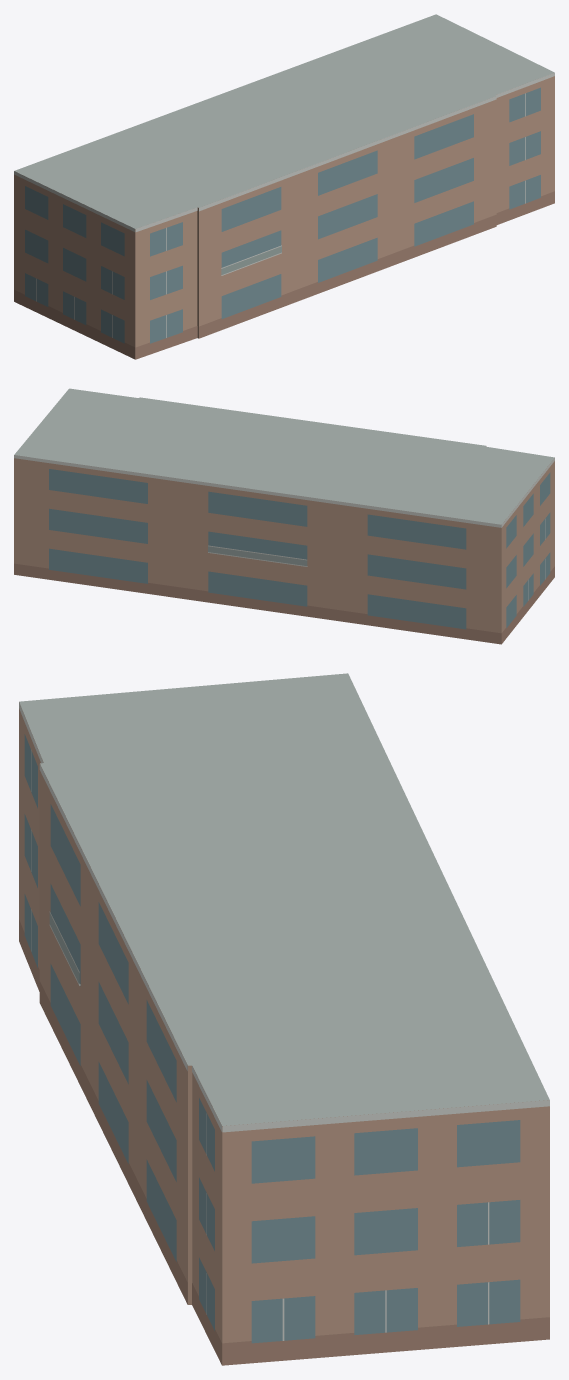
Rendered from survey-upis-32521155.glb.
The picture shows the model from 3 angles, top to bottom: view 1: azimuth 30°, elevation 25°; view 2: azimuth 150°, elevation 25°; view 3: azimuth 270°, elevation 25°; orthographic projection. The views are drawn at different scales.
Visible parts, largest first — view 1: survey-upis-32521155.tmp; view 2: survey-upis-32521155.tmp; view 3: survey-upis-32521155.tmp.
Part boxes in pixels (x1,y1,x2,y2): survey-upis-32521155.tmp: [14, 14, 554, 359]; survey-upis-32521155.tmp: [14, 388, 554, 644]; survey-upis-32521155.tmp: [19, 673, 549, 1365].
Bounding box in the file's own units: 37.11 × 9.15 × 18.39.
